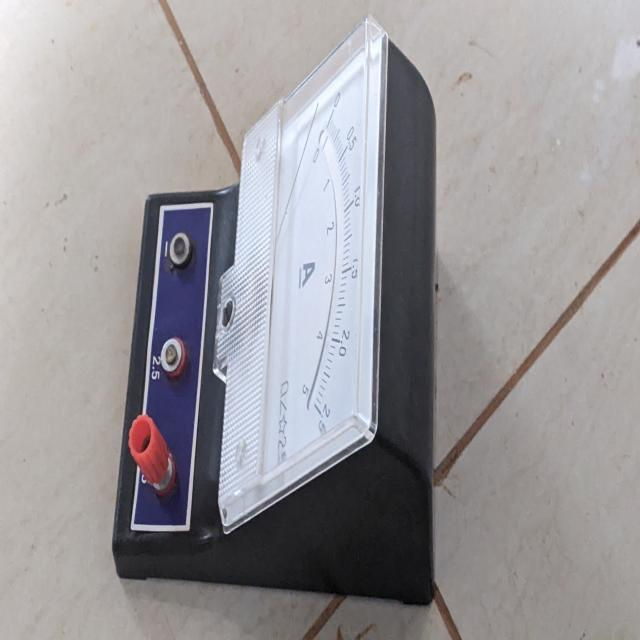Ammeter Analog: (108, 11, 462, 612)
